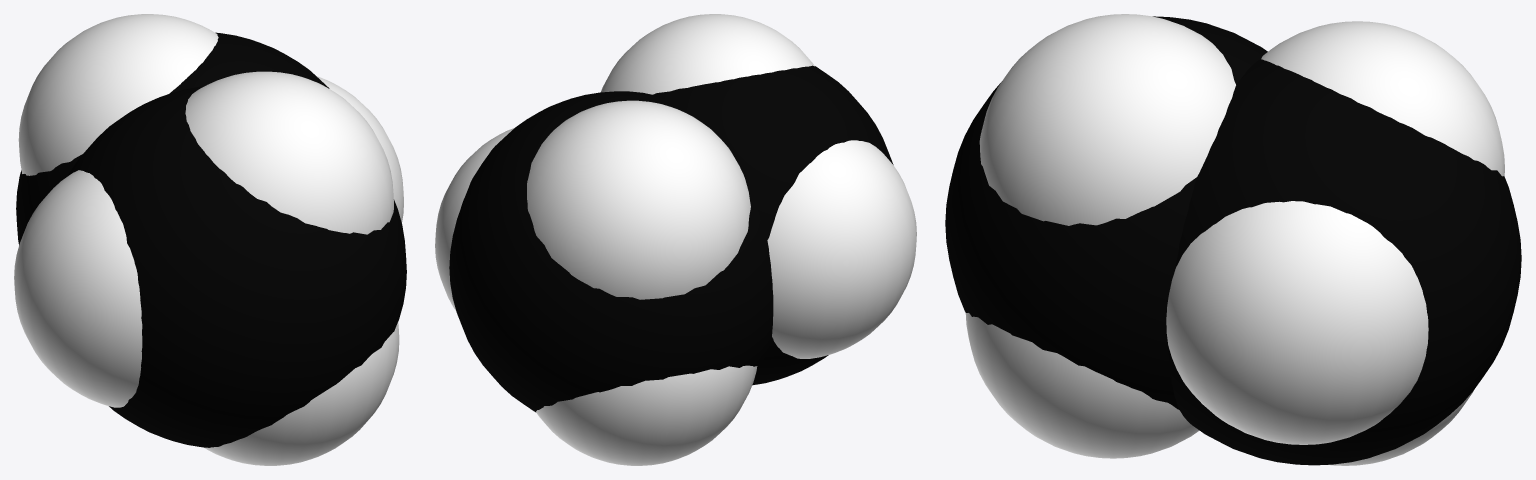
The model's file is etano.obj.
3 views of the same model, side by side, from view 1: azimuth 30°, elevation 25°; view 2: azimuth 150°, elevation 25°; view 3: azimuth 270°, elevation 25° (orthographic). The views are drawn at different scales.
Parts seen in each view (by area): view 1: Hydrogen_ball, Carbon_ball; view 2: Hydrogen_ball, Carbon_ball; view 3: Hydrogen_ball, Carbon_ball.
Boxes of the visible parts, x1,y1,x2,y2 form: Hydrogen_ball: (14,14,403,465); Carbon_ball: (16,32,406,447); Hydrogen_ball: (435,14,916,465); Carbon_ball: (449,65,893,412); Hydrogen_ball: (965,14,1504,465); Carbon_ball: (945,16,1521,465).
Size of the model in its own units: 2.4 by 2.1 by 2.53.
